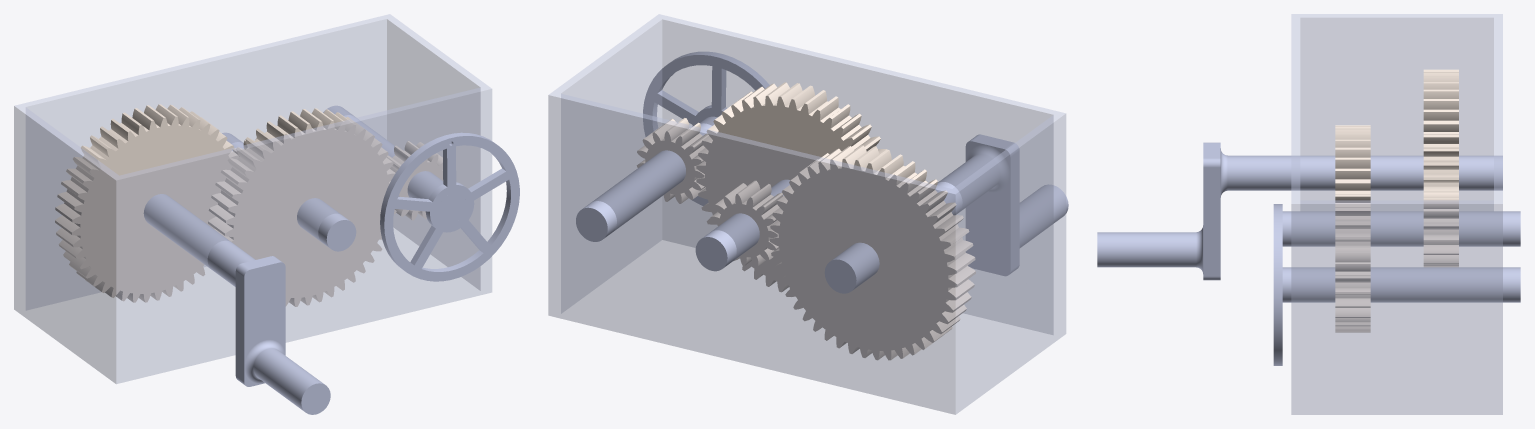
Rendered from test_assembly.glb.
The picture shows the model from 3 angles, left to right: view 1: azimuth 30°, elevation 25°; view 2: azimuth 150°, elevation 25°; view 3: azimuth 270°, elevation 25°; orthographic projection. The views are drawn at different scales.
Parts seen in each view (by area): view 1: box-1, spur gear_ai-4, spur gear_ai-3, input shaft-1, output wheel-1, test shaft-1, test shaft-3, spur gear_ai-1; view 2: box-1, spur gear_ai-4, spur gear_ai-3, input shaft-1, test shaft-3, output wheel-1, spur gear_ai-1, spur gear_ai-2, test shaft-1; view 3: box-1, input shaft-1, test shaft-3, test shaft-1, spur gear_ai-3, spur gear_ai-4, spur gear_ai-1, spur gear_ai-2, output wheel-1.
Boxes of the visible parts, bbox=[...] form: box-1: bbox=[14, 14, 491, 383]; spur gear_ai-4: bbox=[55, 104, 238, 302]; spur gear_ai-3: bbox=[208, 108, 396, 306]; input shaft-1: bbox=[143, 194, 330, 414]; output wheel-1: bbox=[380, 132, 519, 281]; test shaft-1: bbox=[222, 132, 356, 251]; test shaft-3: bbox=[323, 105, 466, 224]; spur gear_ai-1: bbox=[386, 141, 443, 220]; box-1: bbox=[548, 14, 1065, 414]; spur gear_ai-4: bbox=[770, 145, 975, 360]; spur gear_ai-3: bbox=[696, 82, 886, 292]; input shaft-1: bbox=[824, 134, 1068, 293]; test shaft-3: bbox=[576, 116, 717, 241]; output wheel-1: bbox=[643, 51, 769, 205]; spur gear_ai-1: bbox=[637, 118, 708, 203]; spur gear_ai-2: bbox=[710, 180, 782, 266]; test shaft-1: bbox=[695, 179, 789, 271]; box-1: bbox=[1291, 14, 1502, 414]; input shaft-1: bbox=[1097, 142, 1502, 280]; test shaft-3: bbox=[1282, 267, 1520, 302]; test shaft-1: bbox=[1282, 211, 1520, 246]; spur gear_ai-3: bbox=[1335, 125, 1370, 332]; spur gear_ai-4: bbox=[1423, 69, 1458, 267]; spur gear_ai-1: bbox=[1335, 247, 1370, 322]; spur gear_ai-2: bbox=[1423, 192, 1458, 266]; output wheel-1: bbox=[1273, 204, 1282, 365].
Size of the model in its own units: 0.1702 by 0.0838 by 0.1524.
